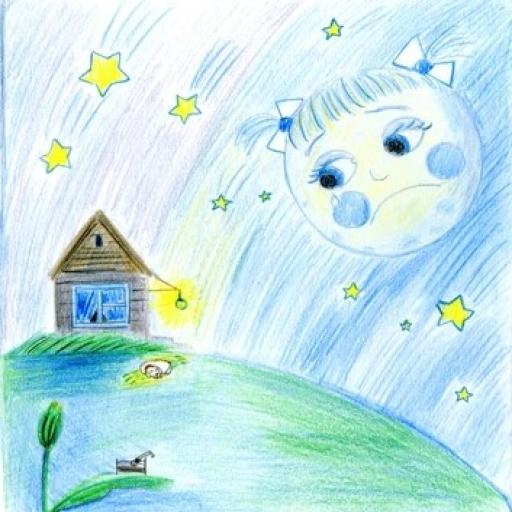person: (114, 346, 197, 402)
